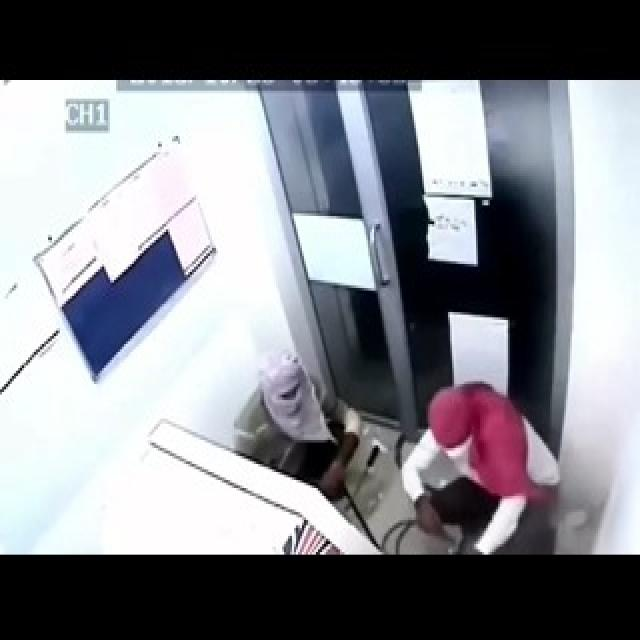thief: (240, 339, 548, 546)
